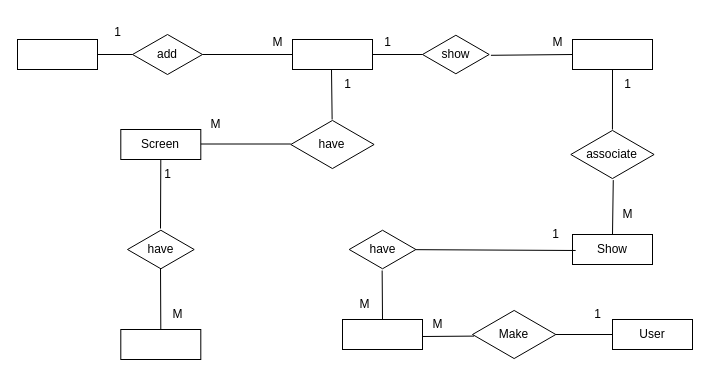
This 710x377 diagram has some shape labels left out. Each missing label, with the box of its shape:
Booking: (342, 318, 422, 350)
Login: (16, 38, 98, 70)
Movie: (572, 38, 652, 70)
Show Time: (120, 328, 201, 360)
Theatre: (292, 38, 372, 70)
